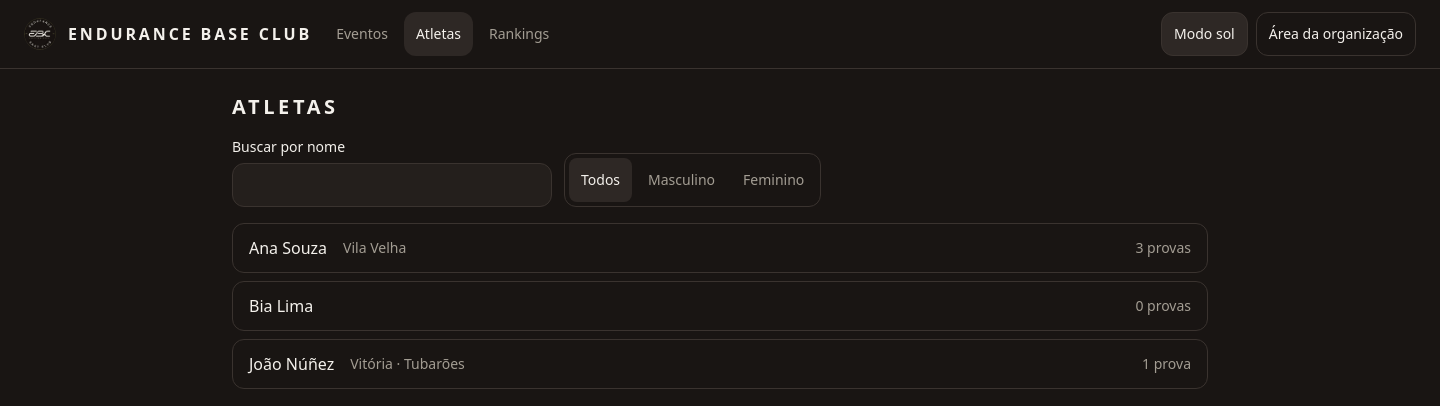
Test: PublicAthletesPage (#/perfis) › searches ignoring accents, case and surrounding spaces (Review Focus 4)
Type "  JOAO " into the search field with test id "athlete-search". click: (392, 185)
box: [232,163,552,207]
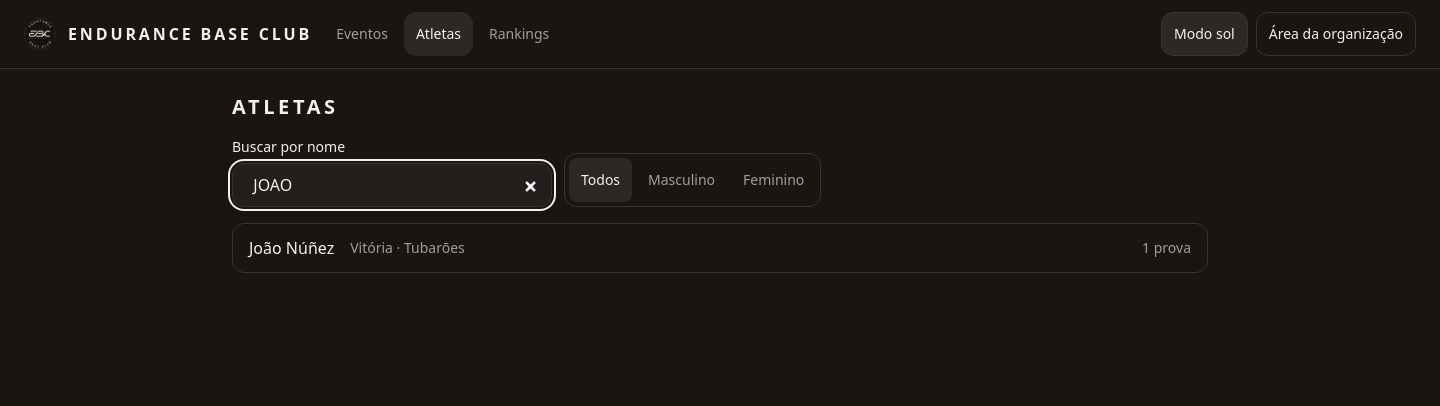
Replace the text in the search field with test id "athlete-search" with "zzz". click: (392, 185)
box: [232,163,552,207]
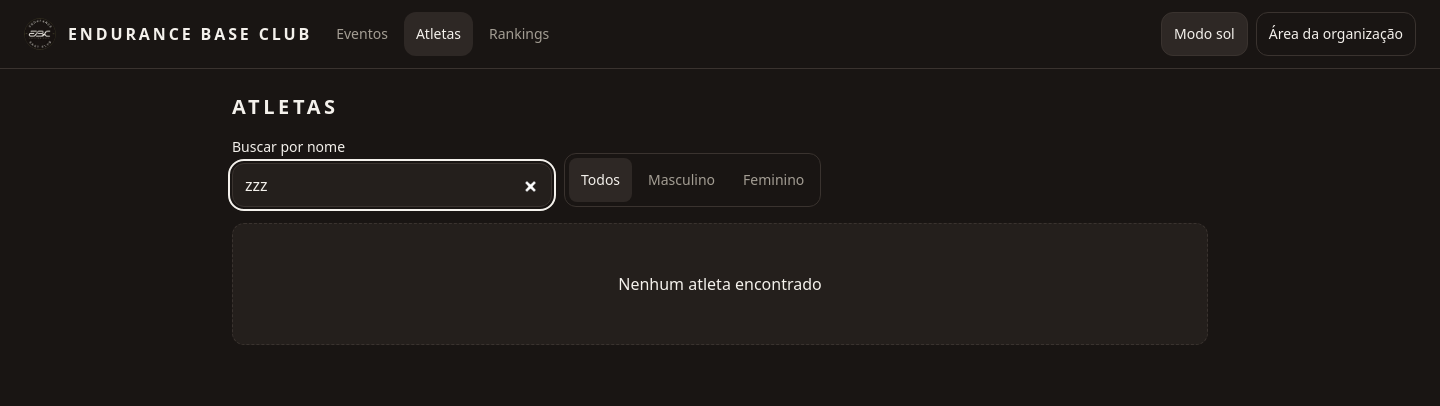
Now the text "Nenhum atleta encontrado" is shown, box [618,272,822,296]
